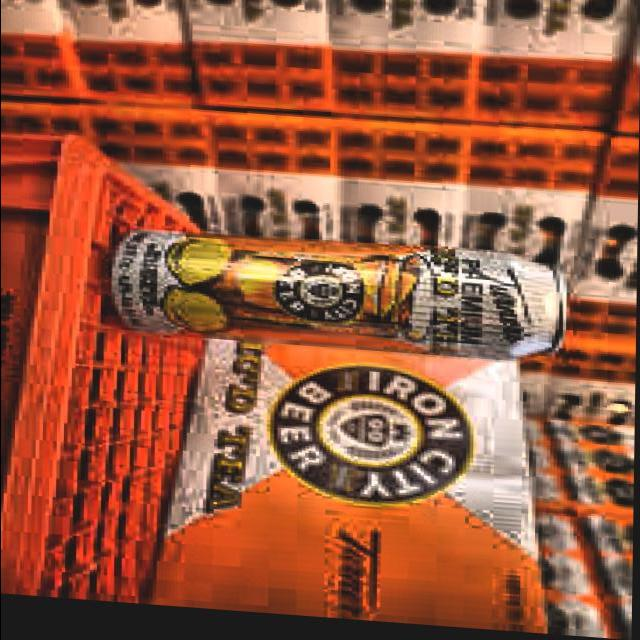Aluminum Can: (102, 227, 573, 371)
